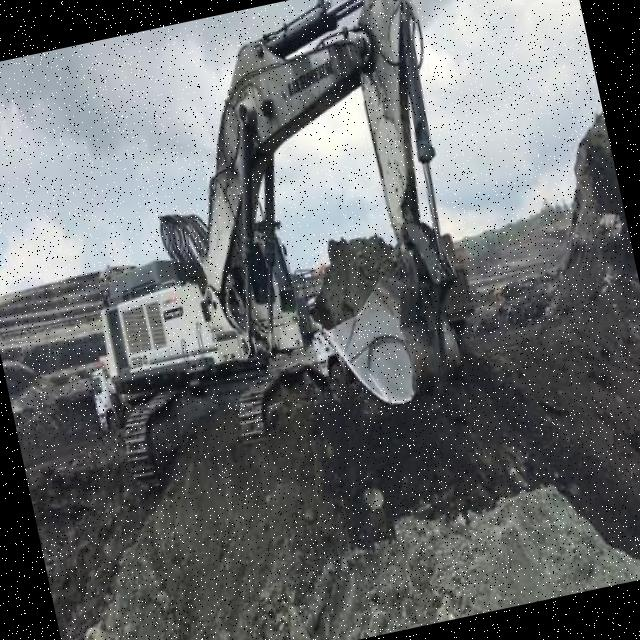Excavator: (31, 0, 506, 505)
